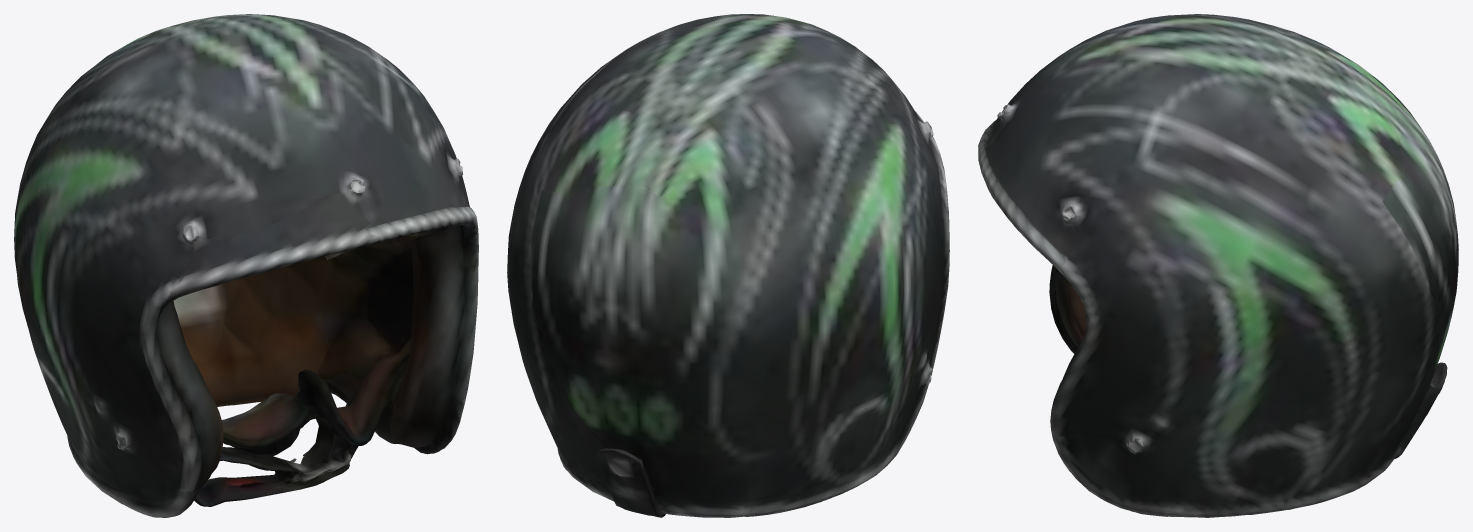
The model's file is Ortho_Forward_Facing_CkAW6rL25xH-high.glb.
The picture shows the model from 3 angles, left to right: view 1: azimuth 30°, elevation 25°; view 2: azimuth 150°, elevation 25°; view 3: azimuth 270°, elevation 25°; orthographic projection. The views are drawn at different scales.
Parts seen in each view (by area): view 1: Ortho_Forward_Facing_CkAW6rL25xH; view 2: Ortho_Forward_Facing_CkAW6rL25xH; view 3: Ortho_Forward_Facing_CkAW6rL25xH.
Boxes of the visible parts, box(x1,y1,x2,y2) form: Ortho_Forward_Facing_CkAW6rL25xH: box(14, 14, 478, 517); Ortho_Forward_Facing_CkAW6rL25xH: box(507, 14, 949, 517); Ortho_Forward_Facing_CkAW6rL25xH: box(978, 14, 1458, 517).
Size of the model in its own units: 0.251 by 0.2657 by 0.2785.
1 material, 1 textured.
